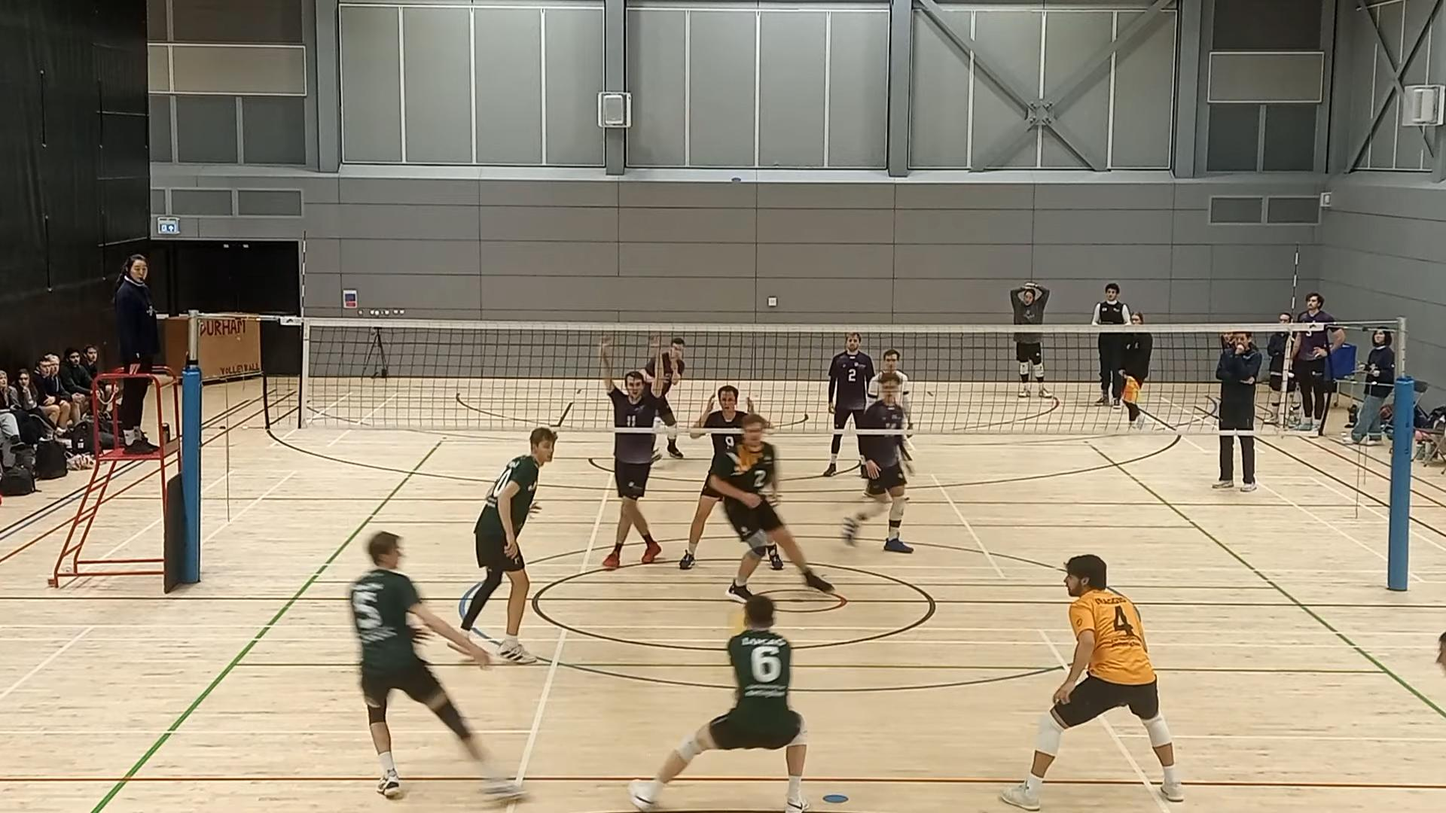ricezione: (629, 594, 809, 810)
